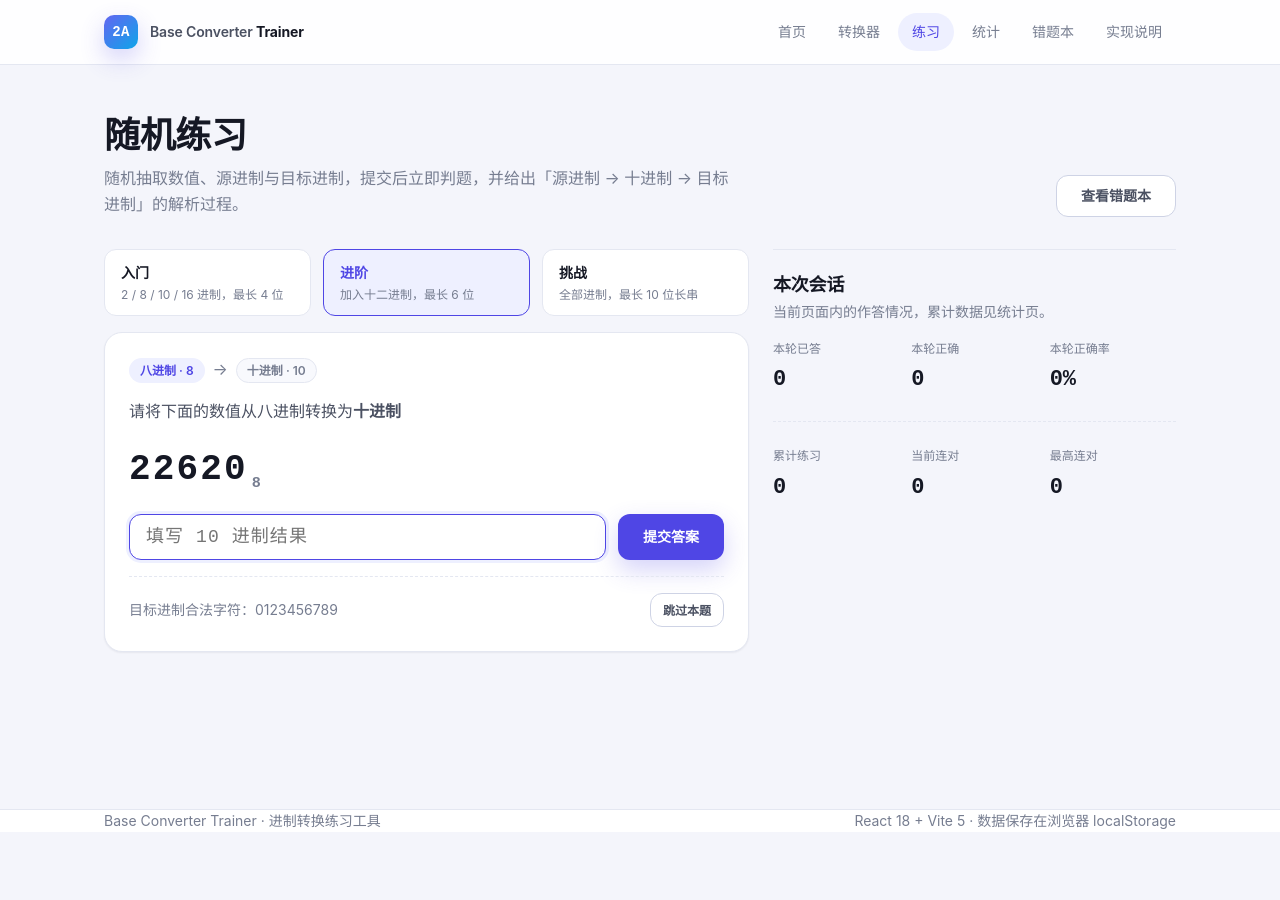
Test: 练习页 · 判题 › 提交空答案时提示用户还没有填写
Click the button "提交答案": click(671, 537) [618, 514, 724, 560]
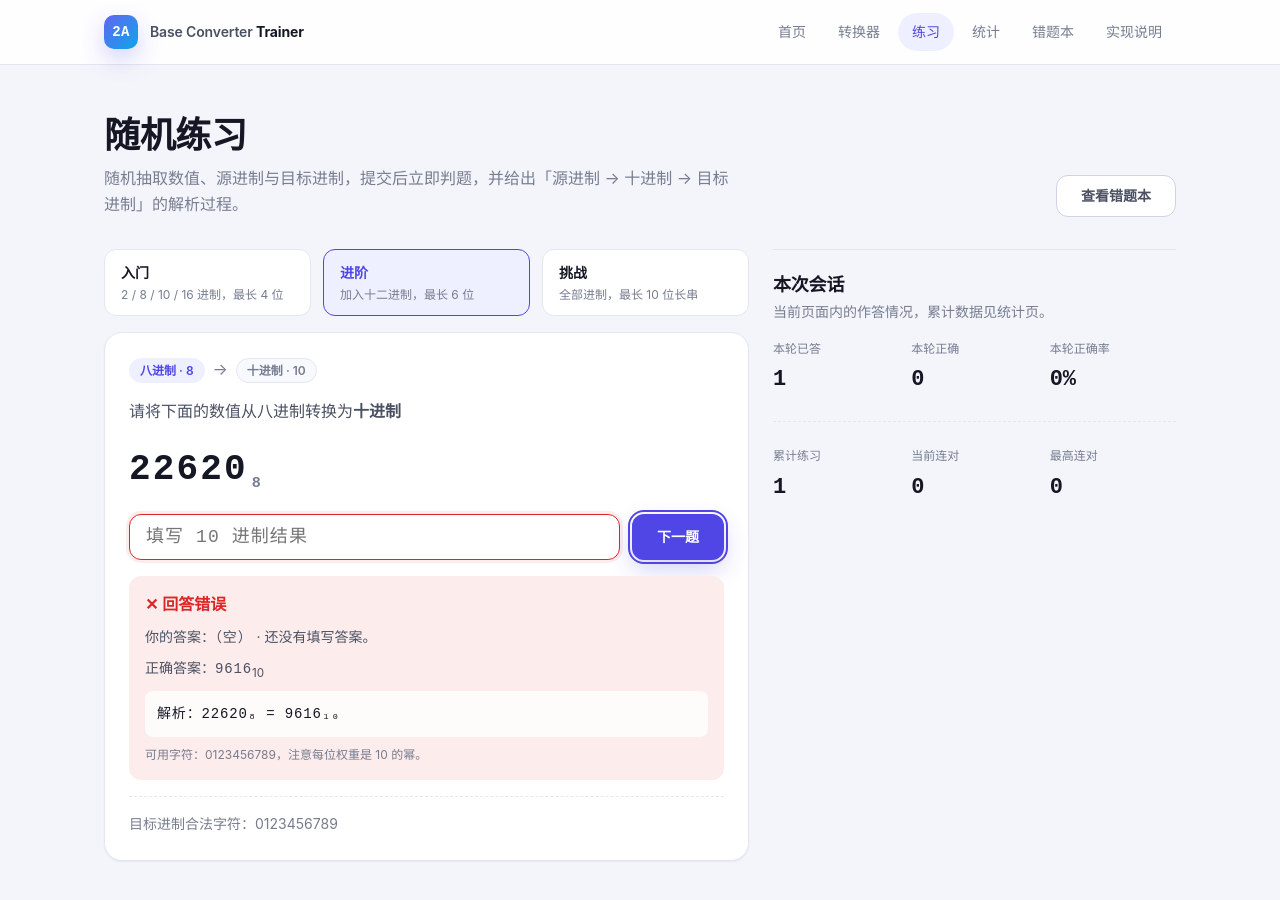
Result: the text "你的答案：（空） · 还没有填写答案。" is shown at [145, 628, 376, 646]
